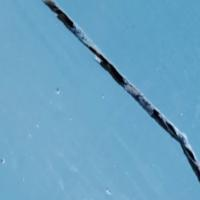crack: (45, 0, 199, 174)
